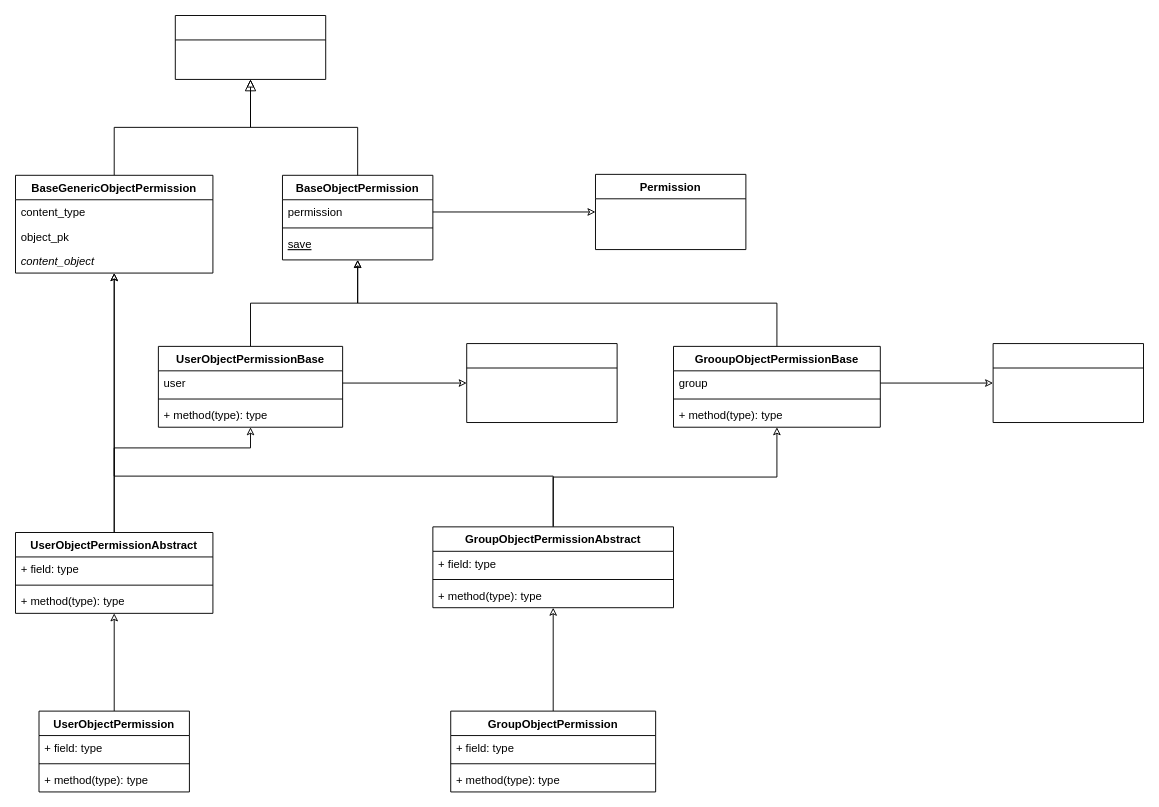
Image size: 1159x807. Some labels were removed from this diagram. The centre of each missing label's shape, as x and y in pixels:
models.Model: point (250, 47)
UserGroup: point (1068, 383)
UserInfo: point (541, 383)
